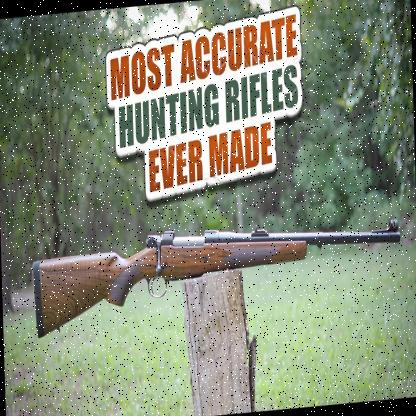rifle: (22, 207, 408, 340)
